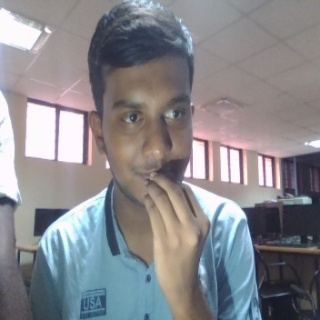Food: (139, 170, 213, 305)
